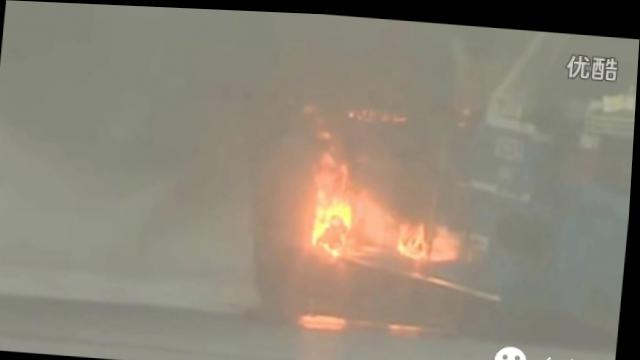fire: (311, 166, 359, 252), (353, 198, 397, 250), (394, 219, 432, 255), (431, 226, 461, 259), (305, 309, 345, 327)
